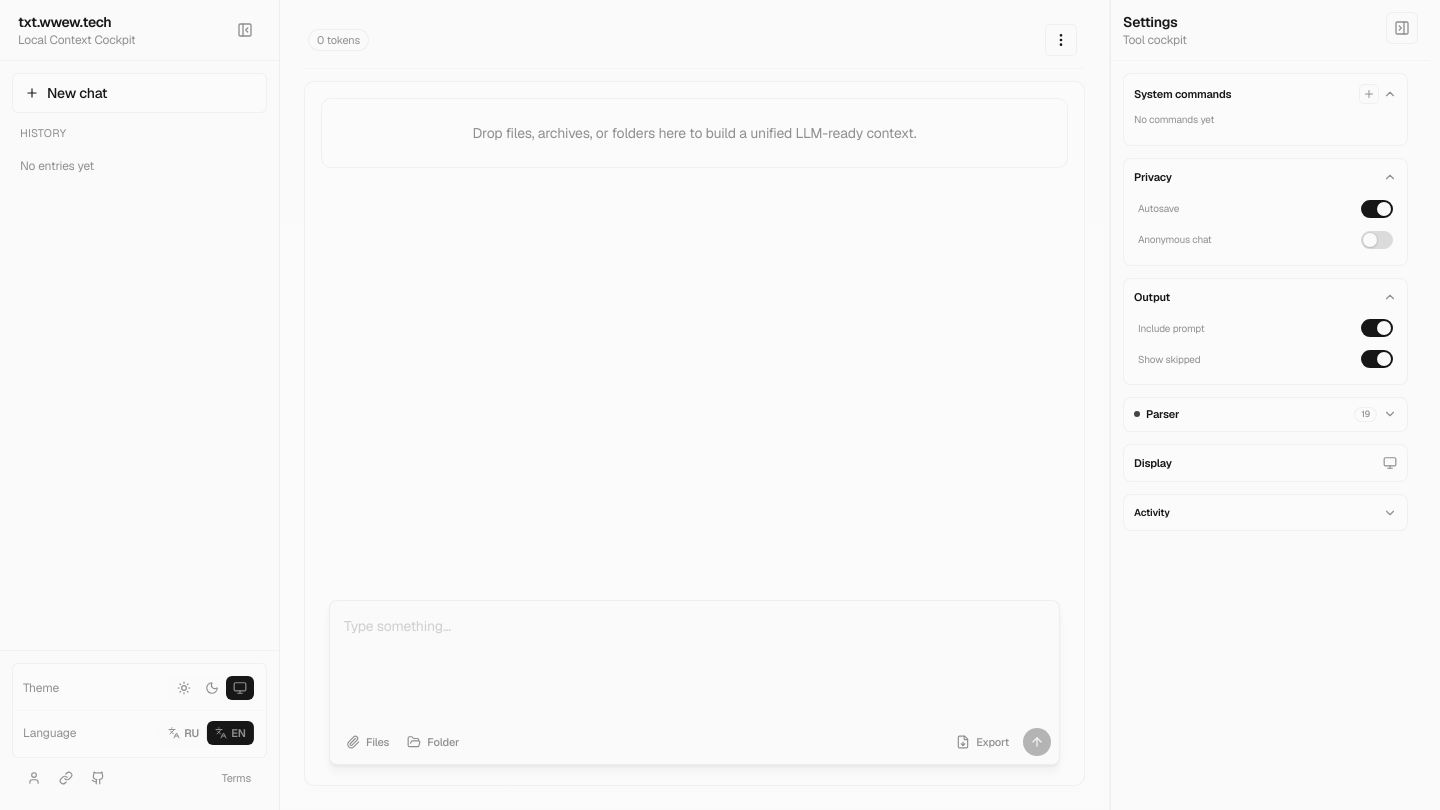
System commands panel › opens the add-form when + is clicked
Check: the heading "System commands" is shown, box [1134,84,1397,104]
Click the button named "New". click: point(1369, 94)
box: [1359,84,1379,104]
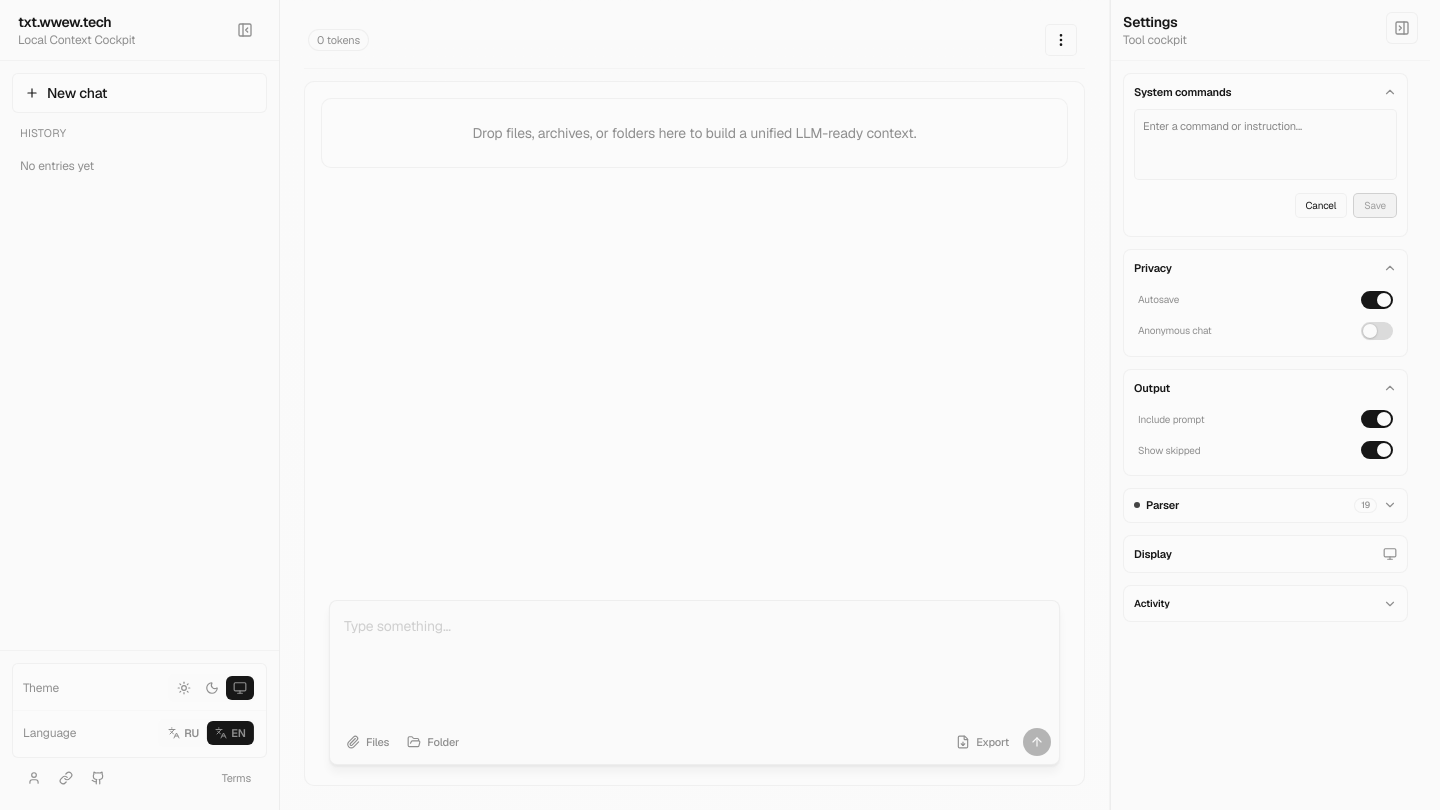
Check: the text box with placeholder "Enter a command or instruction..." is shown, box [1134,108,1397,180]
